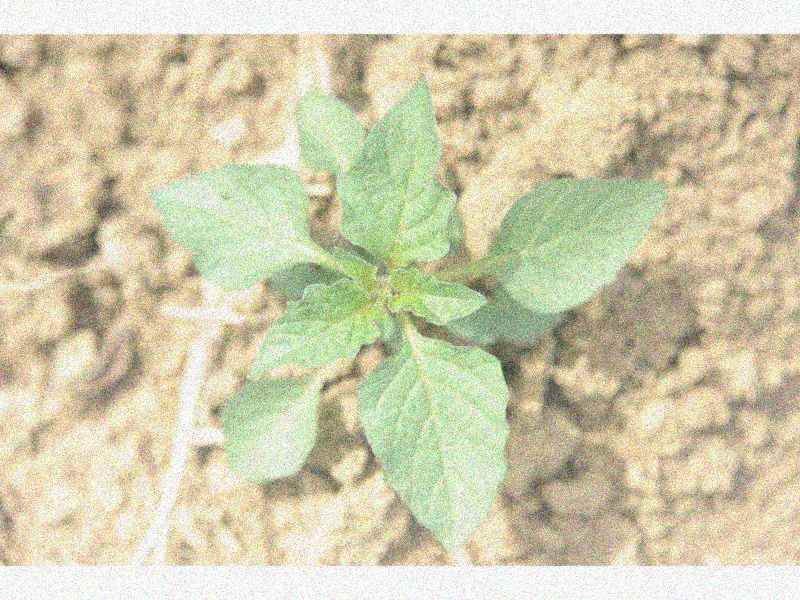nightshade: (148, 68, 670, 549)
